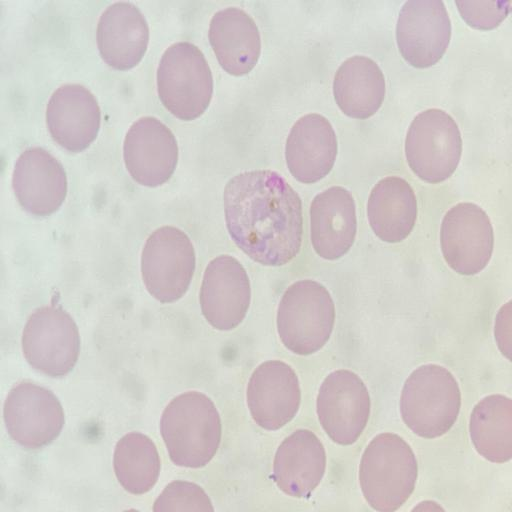Infected: (223, 170, 302, 265)
Uninfected: (158, 391, 221, 468), (275, 279, 334, 357), (357, 433, 416, 510), (399, 364, 460, 438), (20, 301, 79, 377), (139, 226, 197, 303), (156, 42, 214, 118), (404, 108, 462, 182), (315, 369, 371, 445), (437, 202, 493, 276), (2, 381, 62, 449), (245, 359, 301, 431), (122, 116, 178, 186), (44, 83, 101, 151), (10, 147, 66, 216), (271, 430, 326, 500), (199, 256, 251, 330), (395, 0, 451, 66), (284, 114, 337, 182), (96, 2, 149, 69), (207, 8, 260, 74), (366, 176, 418, 243), (309, 186, 357, 258), (332, 57, 386, 118), (112, 432, 160, 494), (467, 394, 511, 461)
